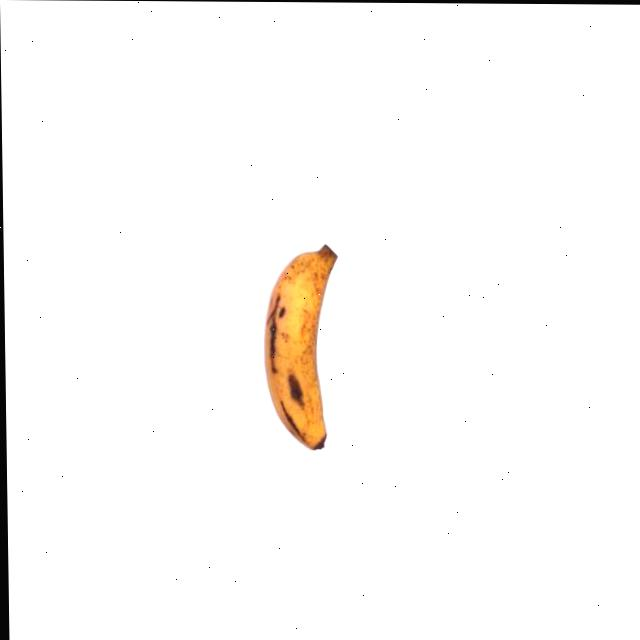banana: (260, 240, 343, 455)
